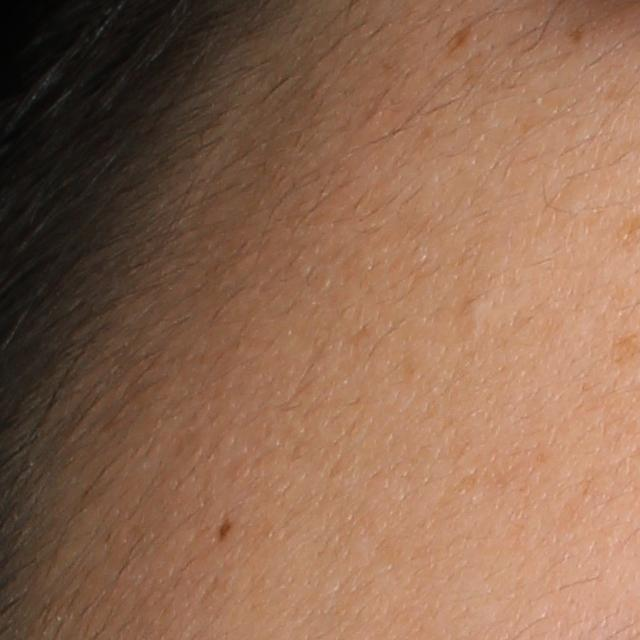comedo: (462, 290, 492, 325)
melasma: (443, 22, 481, 54)
nevus: (218, 513, 233, 541)
